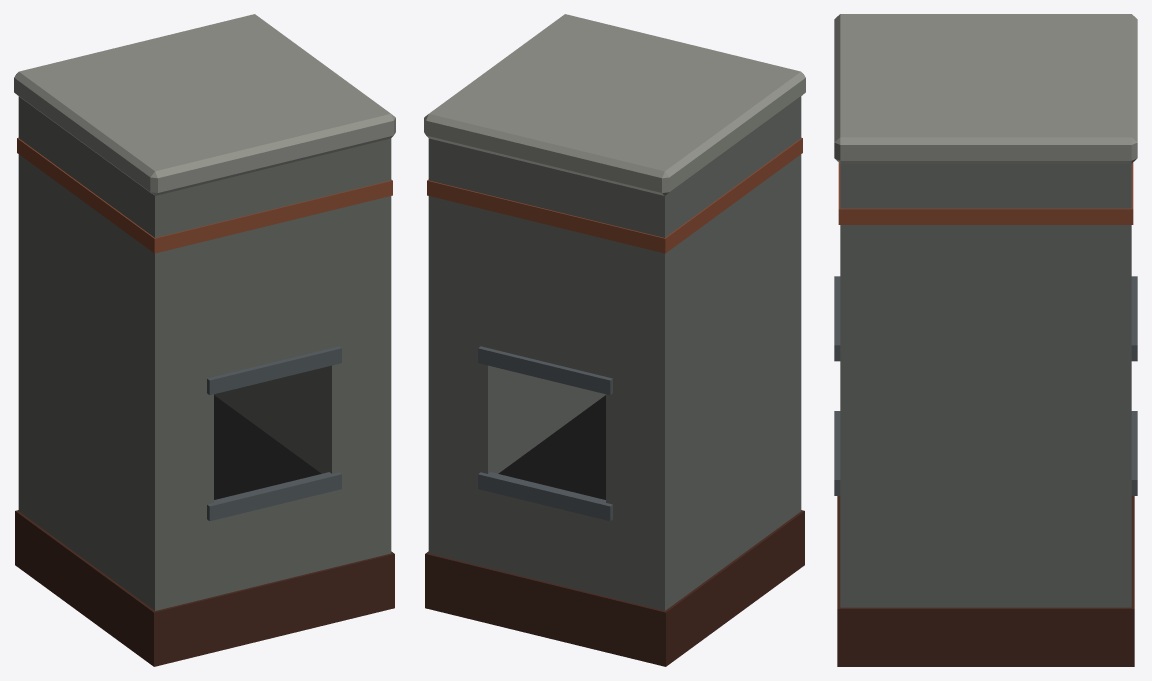
File: kit_wall_vent.glb
The picture shows the model from 3 angles, left to right: view 1: azimuth 30°, elevation 25°; view 2: azimuth 150°, elevation 25°; view 3: azimuth 270°, elevation 25°; orthographic projection. The views are drawn at different scales.
Visible parts, largest first — view 1: wall_high, cap, wall_low, wall_sideB, skirt, wall_sideA, band, vent_dark, vent_frame-1, vent_frame_t-1; view 2: wall_high, cap, wall_low, wall_sideB, skirt, wall_sideA, band, vent_dark, vent_frame1, vent_frame_t1; view 3: wall_high, cap, wall_sideA, wall_low, skirt, band, vent_frame_t1, vent_frame_t-1, vent_frame1, vent_frame-1.
Boxes of the visible parts, left/top/right/bottom form: wall_high: left=18, top=96, right=391, bottom=393; cap: left=14, top=14, right=395, bottom=195; wall_low: left=18, top=430, right=391, bottom=610; wall_sideB: left=18, top=294, right=213, bottom=529; skirt: left=15, top=510, right=394, bottom=666; wall_sideA: left=214, top=336, right=391, bottom=483; band: left=17, top=137, right=392, bottom=253; vent_dark: left=214, top=395, right=321, bottom=499; vent_frame-1: left=207, top=472, right=341, bottom=521; vent_frame_t-1: left=207, top=346, right=341, bottom=395; wall_high: left=428, top=96, right=801, bottom=393; cap: left=424, top=14, right=805, bottom=195; wall_low: left=428, top=430, right=801, bottom=610; wall_sideB: left=606, top=294, right=801, bottom=529; skirt: left=425, top=510, right=804, bottom=666; wall_sideA: left=428, top=336, right=605, bottom=483; band: left=427, top=137, right=802, bottom=253; vent_dark: left=498, top=395, right=605, bottom=499; vent_frame1: left=478, top=472, right=612, bottom=521; vent_frame_t1: left=478, top=346, right=612, bottom=395; wall_high: left=840, top=163, right=1131, bottom=374; cap: left=834, top=14, right=1137, bottom=163; wall_sideA: left=840, top=375, right=1131, bottom=520; wall_low: left=840, top=520, right=1131, bottom=607; skirt: left=837, top=496, right=1134, bottom=666; band: left=838, top=162, right=1133, bottom=224; vent_frame_t1: left=1131, top=276, right=1137, bottom=361; vent_frame_t-1: left=834, top=276, right=840, bottom=361; vent_frame1: left=1131, top=411, right=1137, bottom=495; vent_frame-1: left=834, top=411, right=840, bottom=495.
Bounding box in the file's own units: 1.04 × 2 × 1.04.
